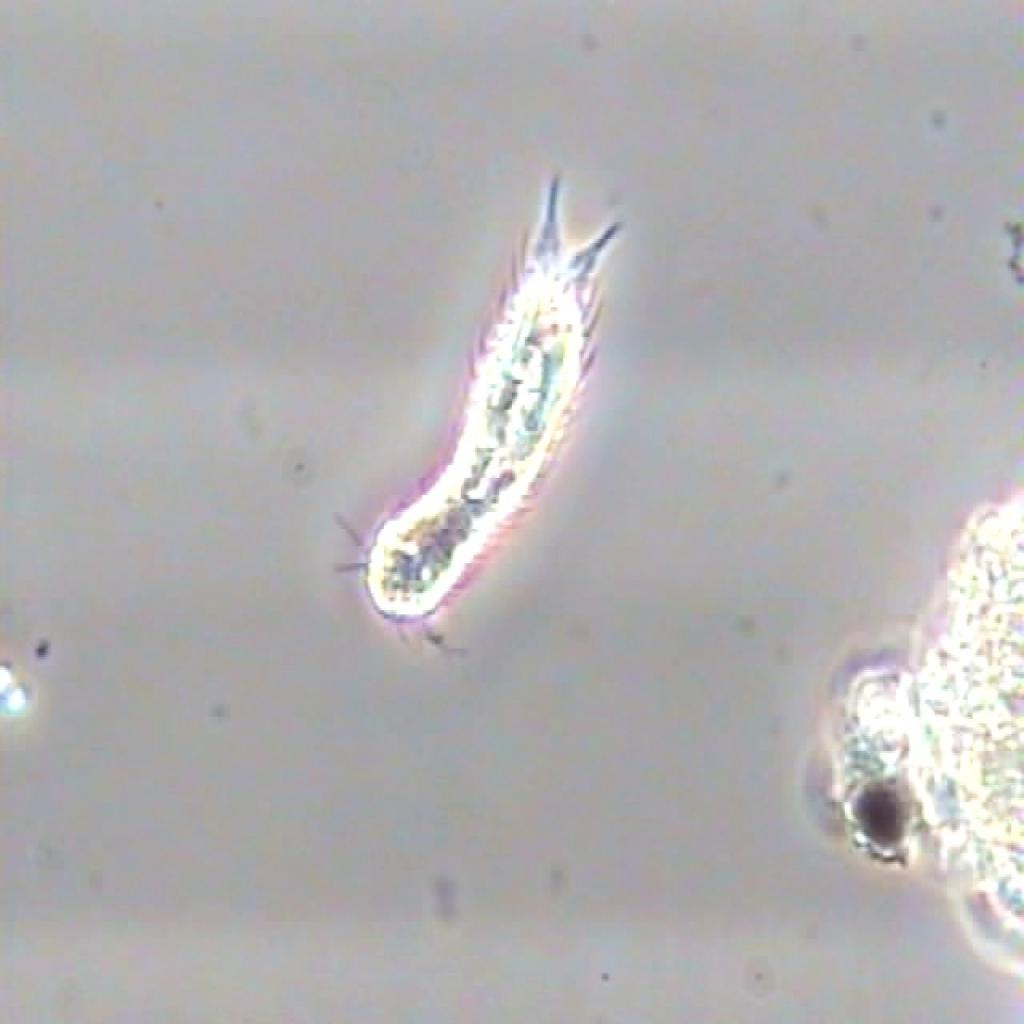Chaetonotus: (281, 171, 628, 638)
